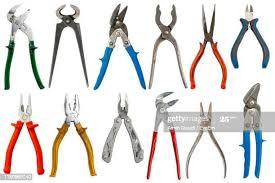pliers: (47, 92, 96, 177), (0, 1, 44, 90), (0, 92, 44, 174), (145, 90, 181, 182), (229, 2, 269, 68)
